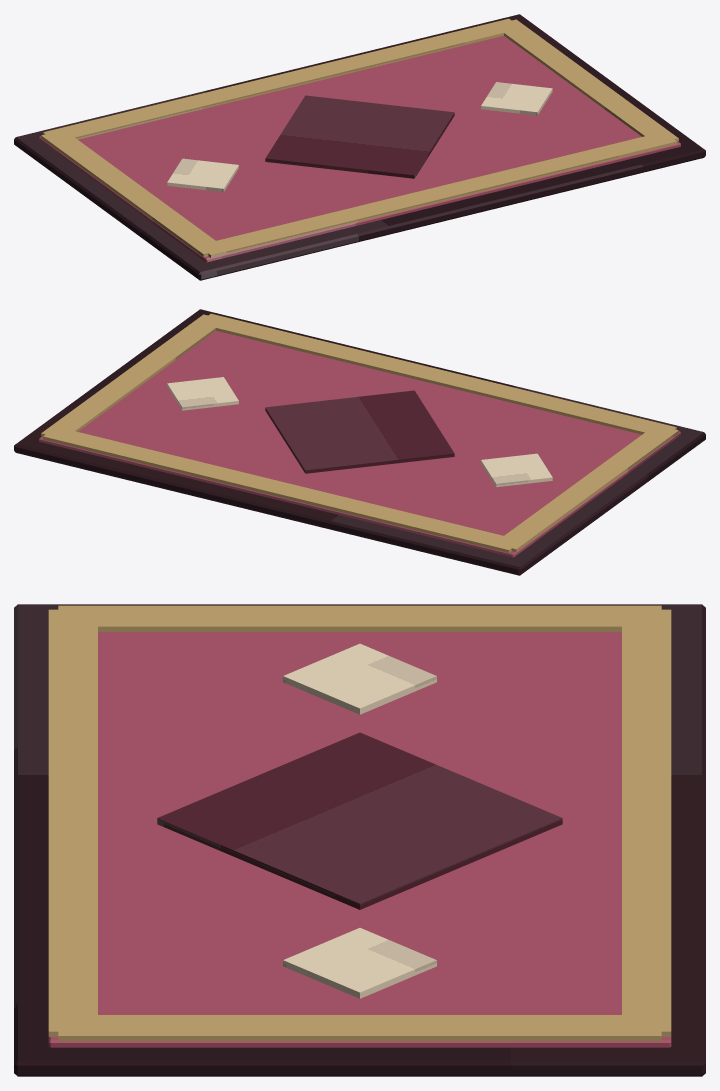
Rendered from hotel_carpet_burgundy.glb.
The picture shows the model from 3 angles, top to bottom: view 1: azimuth 30°, elevation 25°; view 2: azimuth 150°, elevation 25°; view 3: azimuth 270°, elevation 25°; orthographic projection. The views are drawn at different scales.
Visible parts, largest first — view 1: HotelField, TextileBase, HotelMedallion, HotelBorderB, HotelBorderF, HotelBorderR, HotelBorderL, HotelCornerMark_0, HotelCornerMark_1; view 2: HotelField, TextileBase, HotelMedallion, HotelBorderF, HotelBorderB, HotelBorderR, HotelBorderL, HotelCornerMark_0, HotelCornerMark_1; view 3: HotelField, TextileBase, HotelMedallion, HotelBorderB, HotelBorderF, HotelBorderR, HotelBorderL, HotelCornerMark_0, HotelCornerMark_1.
Part boxes in pixels (x1=…): HotelField: x1=39, y1=36, x2=680, y2=262; TextileBase: x1=14, y1=14, x2=705, y2=280; HotelMedallion: x1=265, y1=95, x2=454, y2=178; HotelBorderB: x1=43, y1=18, x2=521, y2=141; HotelBorderF: x1=198, y1=132, x2=676, y2=257; HotelBorderR: x1=493, y1=19, x2=678, y2=143; HotelBorderL: x1=41, y1=134, x2=223, y2=256; HotelCornerMark_0: x1=167, y1=158, x2=238, y2=192; HotelCornerMark_1: x1=481, y1=82, x2=552, y2=115; HotelField: x1=39, y1=331, x2=680, y2=557; TextileBase: x1=14, y1=309, x2=705, y2=575; HotelMedallion: x1=265, y1=390, x2=454, y2=473; HotelBorderF: x1=198, y1=313, x2=676, y2=436; HotelBorderB: x1=43, y1=426, x2=521, y2=552; HotelBorderR: x1=41, y1=314, x2=226, y2=438; HotelBorderL: x1=495, y1=429, x2=678, y2=551; HotelCornerMark_0: x1=481, y1=453, x2=552, y2=487; HotelCornerMark_1: x1=167, y1=377, x2=238, y2=410; HotelField: x1=48, y1=632, x2=671, y2=1047; TextileBase: x1=14, y1=604, x2=705, y2=1076; HotelMedallion: x1=157, y1=732, x2=562, y2=909; HotelBorderB: x1=622, y1=609, x2=671, y2=1036; HotelBorderF: x1=48, y1=609, x2=97, y2=1036; HotelBorderR: x1=58, y1=1015, x2=661, y2=1041; HotelBorderL: x1=58, y1=605, x2=661, y2=631; HotelCornerMark_0: x1=283, y1=643, x2=436, y2=714; HotelCornerMark_1: x1=283, y1=928, x2=436, y2=998.
Size of the model in its own units: 2.2 by 0.068 by 1.4.
Materials: 1 (1 with a texture image).
